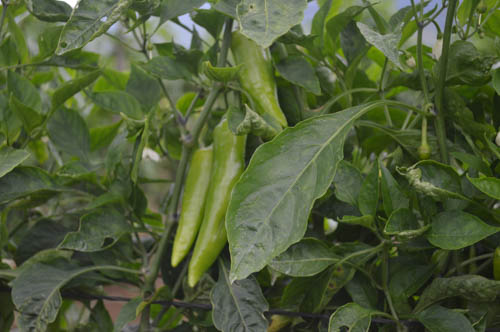ChiliPepper: (186, 123, 245, 293), (230, 30, 290, 130), (173, 149, 209, 268)
